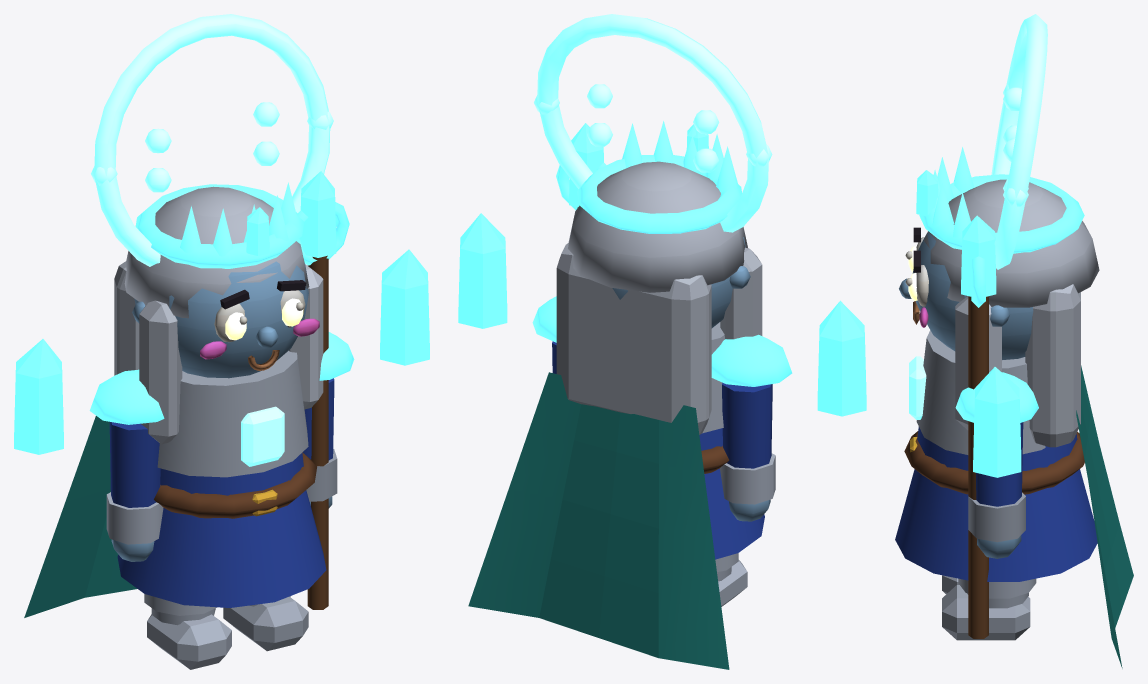
File: hero_kryos.glb
3 views of the same model, side by side, from view 1: azimuth 30°, elevation 25°; view 2: azimuth 150°, elevation 25°; view 3: azimuth 270°, elevation 25° (orthographic). The views are drawn at different scales.
Parts seen in each view (by area): view 1: body_t0_palette, halo_t0_spinY40_bob1_rune, body_t0_crystal, arml_t0_palette, armr_t0_palette, shard2_t0_spinY60_bob3_crystal, shard0_t0_spinY60_bob3_crystal, legl_t0_palette, armr_t0_crystal, legr_t0_palette, arml_t0_crystal, body_t0_rune (+1 smaller); view 2: body_t0_palette, halo_t0_spinY40_bob1_rune, body_t0_crystal, arml_t0_palette, shard2_t0_spinY60_bob3_crystal, shard0_t0_spinY60_bob3_crystal, arml_t0_crystal, armr_t0_crystal, legl_t0_palette; view 3: body_t0_palette, armr_t0_palette, halo_t0_spinY40_bob1_rune, body_t0_crystal, shard2_t0_spinY60_bob3_crystal, armr_t0_crystal, legr_t0_palette, body_t0_rune.
Boxes of the visible parts, x1,y1,x2,y2 form: body_t0_palette: (24, 186, 326, 617); halo_t0_spinY40_bob1_rune: (91, 14, 333, 266); body_t0_crystal: (135, 182, 304, 268); arml_t0_palette: (106, 422, 163, 561); armr_t0_palette: (302, 255, 337, 609); shard2_t0_spinY60_bob3_crystal: (380, 249, 429, 365); shard0_t0_spinY60_bob3_crystal: (14, 339, 63, 454); legl_t0_palette: (144, 594, 231, 669); armr_t0_crystal: (297, 171, 354, 380); legr_t0_palette: (223, 596, 308, 651); arml_t0_crystal: (89, 369, 164, 424); body_t0_rune: (241, 406, 284, 466); body_t0_palette: (468, 161, 764, 669); halo_t0_spinY40_bob1_rune: (534, 14, 772, 232); body_t0_crystal: (577, 121, 741, 233); arml_t0_palette: (720, 382, 775, 521); shard2_t0_spinY60_bob3_crystal: (458, 213, 507, 328); shard0_t0_spinY60_bob3_crystal: (817, 300, 866, 416); arml_t0_crystal: (711, 334, 792, 386); armr_t0_crystal: (532, 123, 606, 342); legl_t0_palette: (715, 553, 747, 606); body_t0_palette: (895, 179, 1133, 668); armr_t0_palette: (968, 296, 1025, 638); halo_t0_spinY40_bob1_rune: (991, 14, 1047, 269); body_t0_crystal: (916, 147, 1084, 253); shard2_t0_spinY60_bob3_crystal: (973, 367, 1021, 477); armr_t0_crystal: (955, 215, 1038, 422); legr_t0_palette: (942, 578, 1036, 640); body_t0_rune: (909, 356, 926, 419).
Bounding box in the file's own units: 0.5 × 0.6998 × 0.257.
